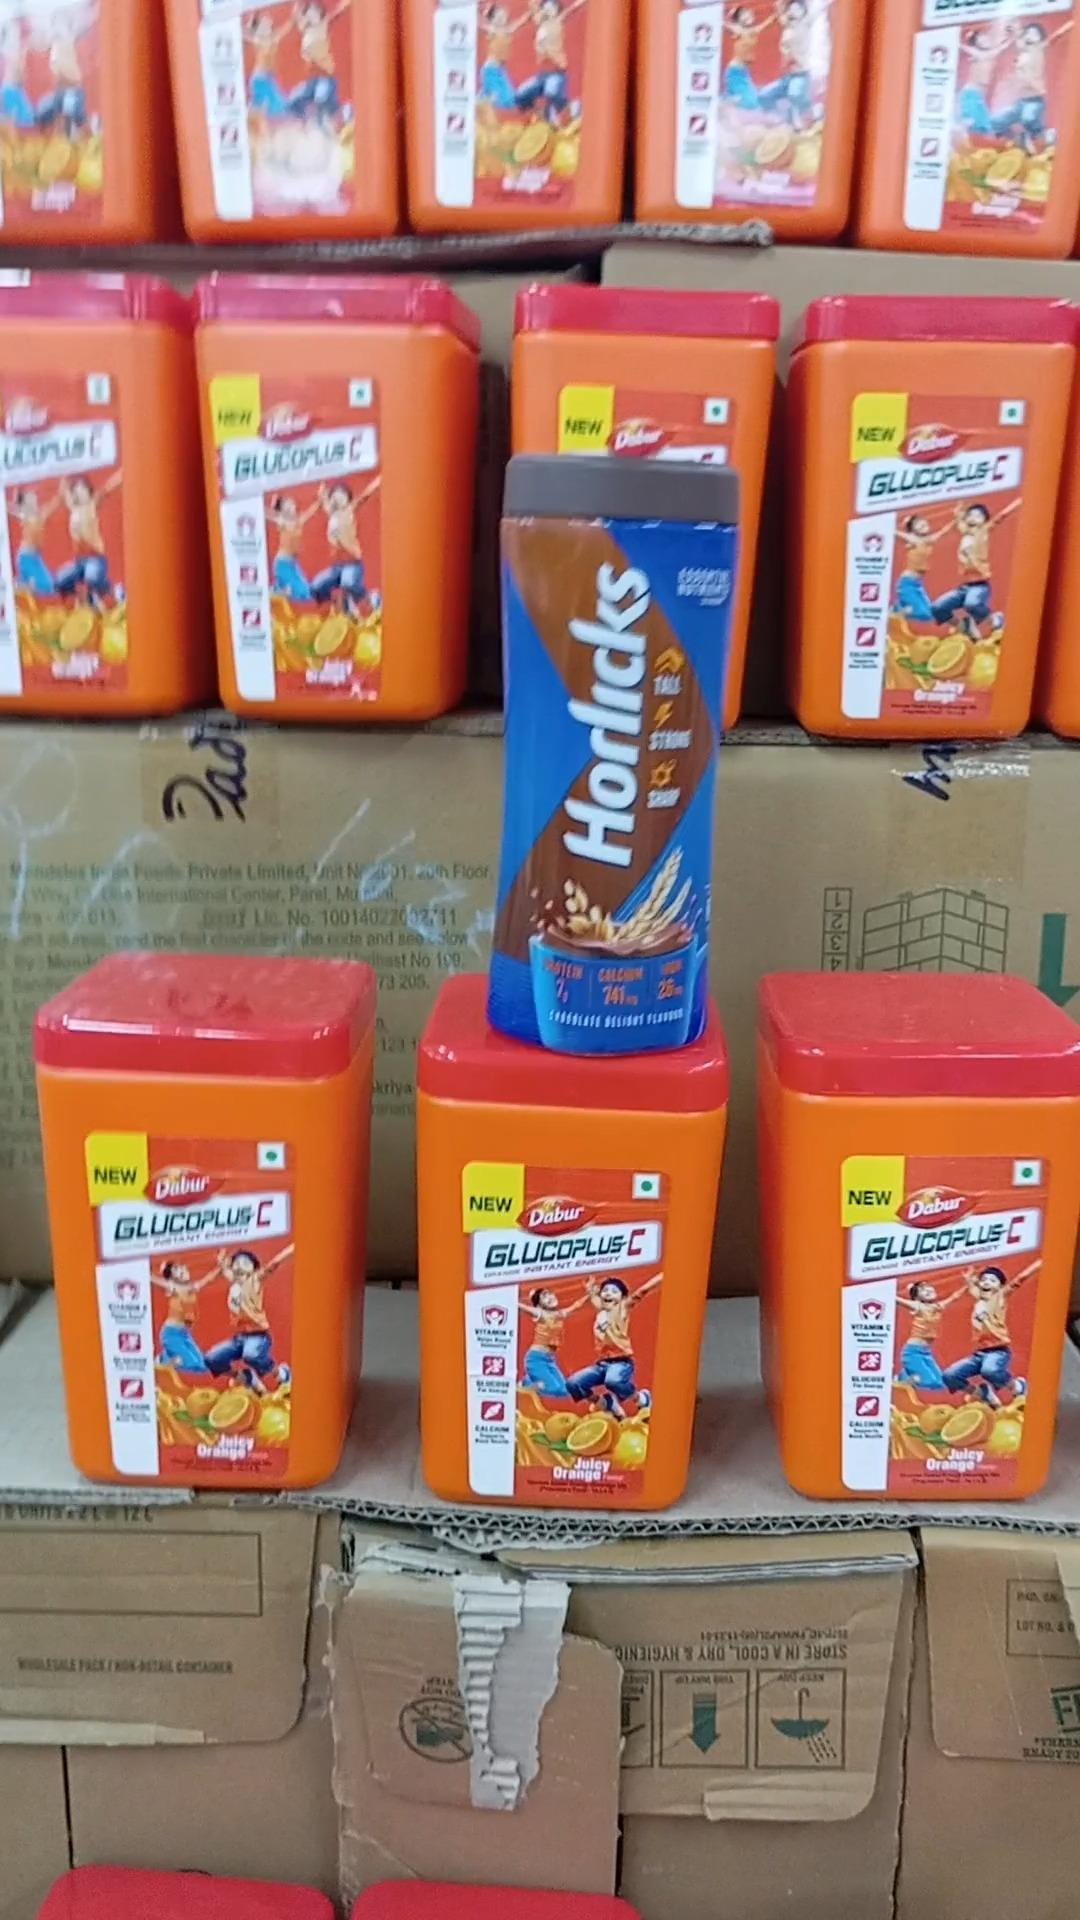HORLICK_CHOCOLATE_500_G_JAR: (496, 468, 715, 1056)
